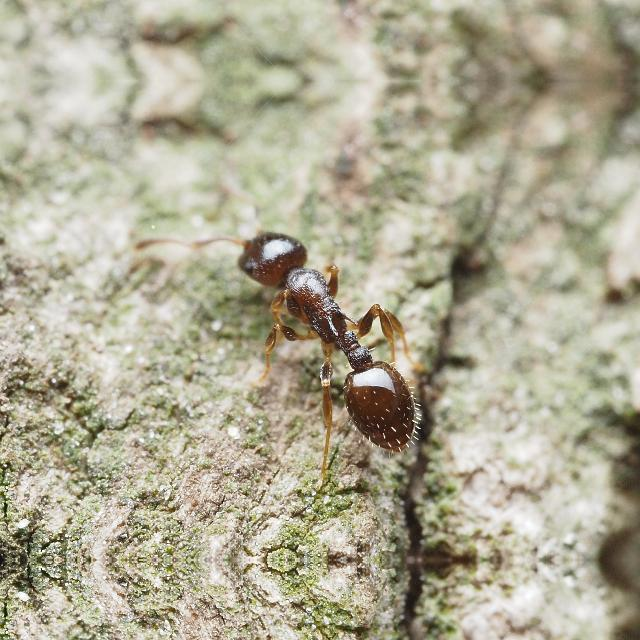Temnothorax: (196, 170, 474, 478)
